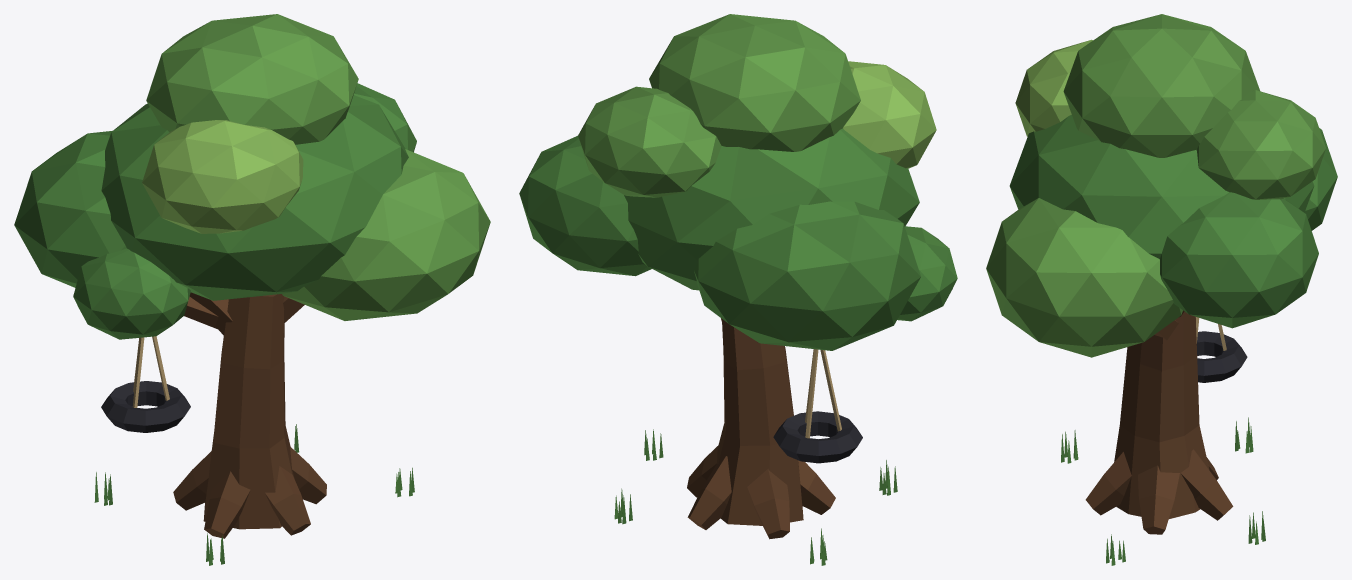
File: Decor_Beanstalk_OakTree.fbx
3 renders of one model, left to right at view 1: azimuth 30°, elevation 25°; view 2: azimuth 150°, elevation 25°; view 3: azimuth 270°, elevation 25°, orthographic.
Visible parts, largest first — view 1: OakTree_Body; view 2: OakTree_Body; view 3: OakTree_Body.
Part boxes in pixels (bbox=[...]): OakTree_Body: bbox=[14, 14, 490, 565]; OakTree_Body: bbox=[519, 14, 957, 565]; OakTree_Body: bbox=[986, 14, 1337, 565].
Size of the model in its own units: 18 by 22.5 by 15.
